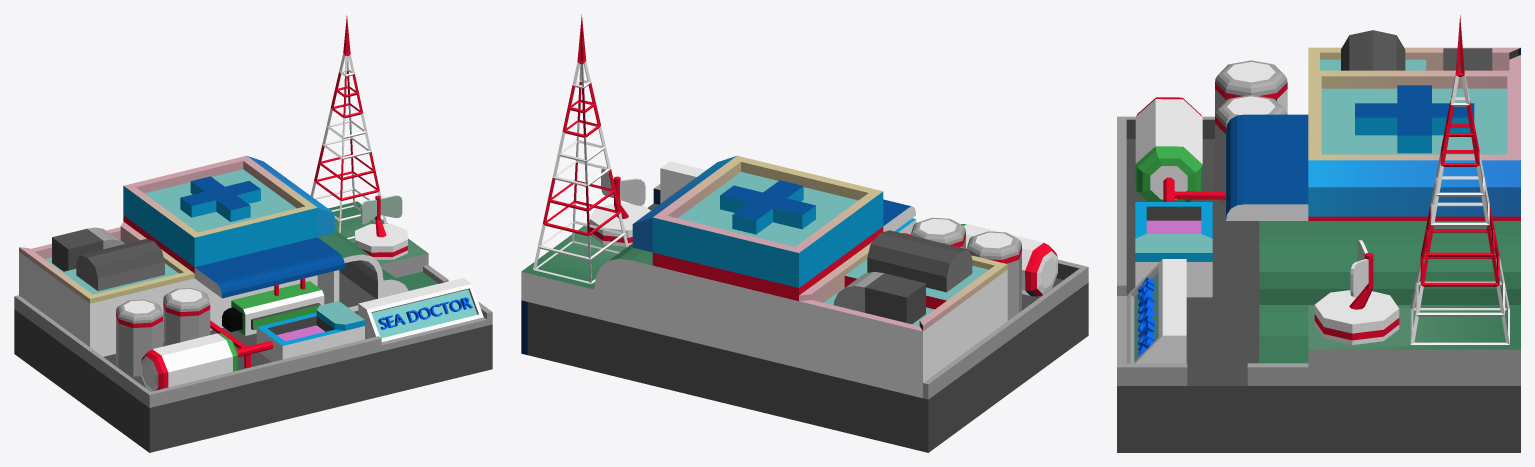
File: Factory.fbx
The picture shows the model from 3 angles, left to right: view 1: azimuth 30°, elevation 25°; view 2: azimuth 150°, elevation 25°; view 3: azimuth 270°, elevation 25°; orthographic projection. The views are drawn at different scales.
Parts seen in each view (by area): view 1: Plane.001, anten, Radar, Text; view 2: Plane.001, anten, Radar; view 3: Plane.001, anten, Radar, Text.
Boxes of the visible parts, bbox=[...] form: Plane.001: bbox=[14, 155, 492, 452]; anten: bbox=[310, 15, 386, 239]; Radar: bbox=[355, 195, 407, 260]; Text: bbox=[378, 297, 472, 329]; Plane.001: bbox=[521, 155, 1088, 452]; anten: bbox=[533, 14, 628, 283]; Radar: bbox=[589, 169, 650, 246]; Plane.001: bbox=[1117, 30, 1520, 452]; anten: bbox=[1410, 15, 1509, 344]; Radar: bbox=[1314, 240, 1399, 344]; Text: bbox=[1138, 277, 1154, 355].
Size of the model in its own units: 2785 by 2163 by 1900.
